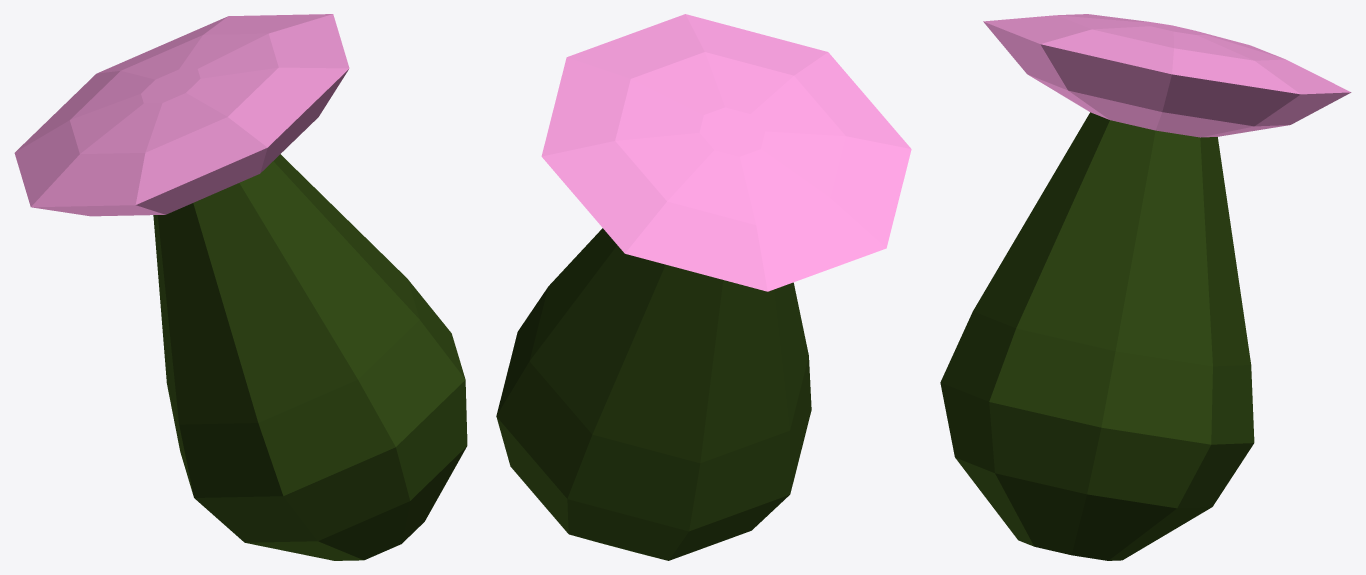
File: BodiakBolotni.fbx
3 renders of one model, left to right at view 1: azimuth 30°, elevation 25°; view 2: azimuth 150°, elevation 25°; view 3: azimuth 270°, elevation 25°, orthographic. The views are drawn at different scales.
Parts seen in each view (by area): view 1: Cylinder.027; view 2: Cylinder.027; view 3: Cylinder.027.
Boxes of the visible parts, bbox=[...] form: Cylinder.027: bbox=[14, 14, 467, 560]; Cylinder.027: bbox=[496, 14, 911, 560]; Cylinder.027: bbox=[940, 14, 1351, 560].
Bounding box in the file's own units: 15.91 × 19.66 × 14.56.
